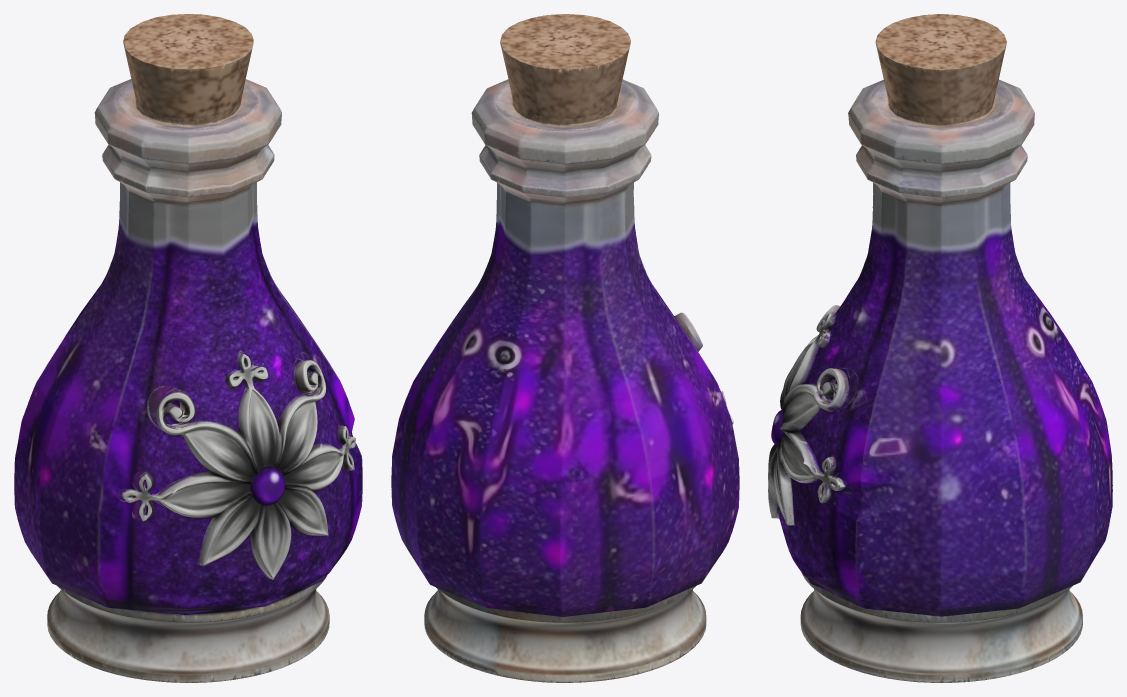
Rendered from PotionPurple.glb.
3 views of the same model, side by side, from view 1: azimuth 30°, elevation 25°; view 2: azimuth 150°, elevation 25°; view 3: azimuth 270°, elevation 25° (orthographic).
Size of the model in its own units: 1.01 by 1.9 by 1.02.
Materials: 1 (1 with a texture image).
